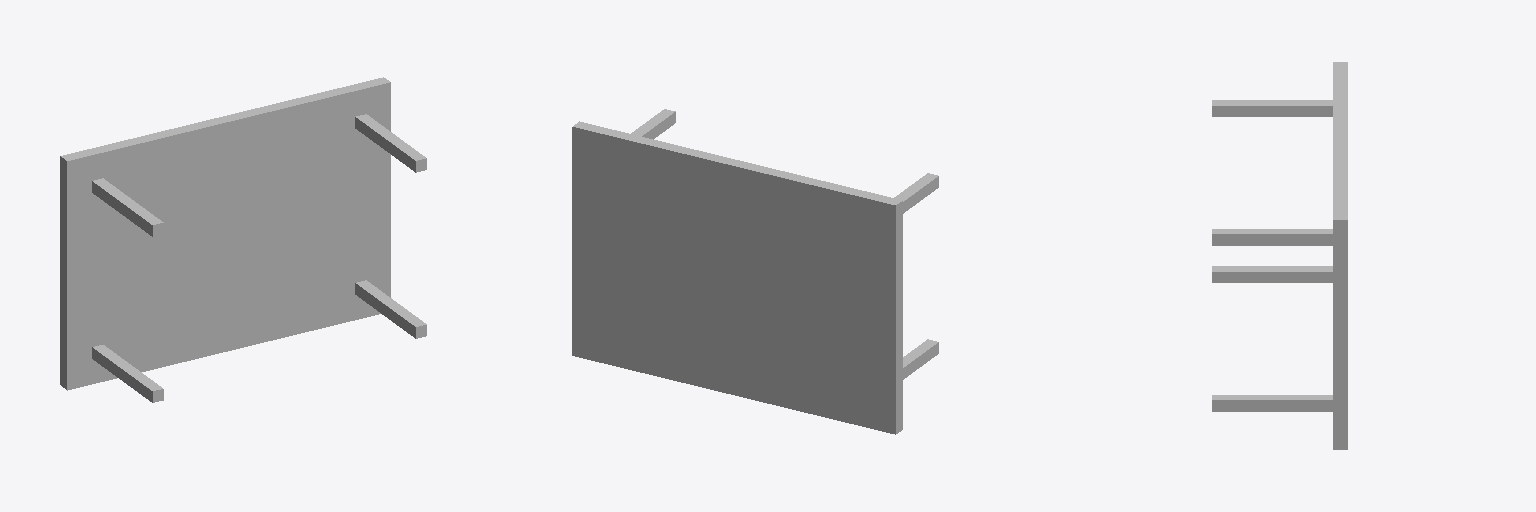
File: random_table92.obj
The picture shows the model from 3 angles: view 1: azimuth 30°, elevation 25°; view 2: azimuth 150°, elevation 25°; view 3: azimuth 270°, elevation 25°; orthographic projection.
Parts seen in each view (by area): view 1: Table_Cube.1525, TableLeg1_Cube.1527, TableLeg2_Cube.1528, TableLeg0_Cube.1526, TableLeg3_Cube.1529; view 2: Table_Cube.1525, TableLeg1_Cube.1527, TableLeg3_Cube.1529, TableLeg0_Cube.1526; view 3: Table_Cube.1525, TableLeg0_Cube.1526, TableLeg1_Cube.1527, TableLeg2_Cube.1528, TableLeg3_Cube.1529.
Part boxes in pixels (bbox=[...]): Table_Cube.1525: bbox=[60, 77, 390, 390]; TableLeg1_Cube.1527: bbox=[92, 178, 163, 236]; TableLeg2_Cube.1528: bbox=[355, 280, 426, 338]; TableLeg0_Cube.1526: bbox=[355, 114, 426, 172]; TableLeg3_Cube.1529: bbox=[92, 345, 163, 402]; Table_Cube.1525: bbox=[572, 121, 902, 434]; TableLeg1_Cube.1527: bbox=[894, 173, 938, 213]; TableLeg3_Cube.1529: bbox=[903, 339, 938, 379]; TableLeg0_Cube.1526: bbox=[631, 109, 675, 139]; Table_Cube.1525: bbox=[1333, 62, 1347, 449]; TableLeg0_Cube.1526: bbox=[1212, 229, 1332, 245]; TableLeg1_Cube.1527: bbox=[1212, 100, 1332, 116]; TableLeg2_Cube.1528: bbox=[1212, 395, 1332, 411]; TableLeg3_Cube.1529: bbox=[1212, 266, 1332, 282].
Size of the model in its own units: 11.57 by 7.83 by 4.19.